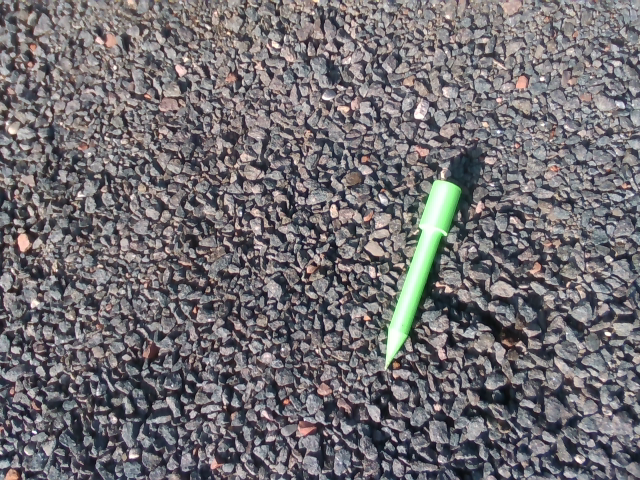Probe: (377, 171, 467, 379)
